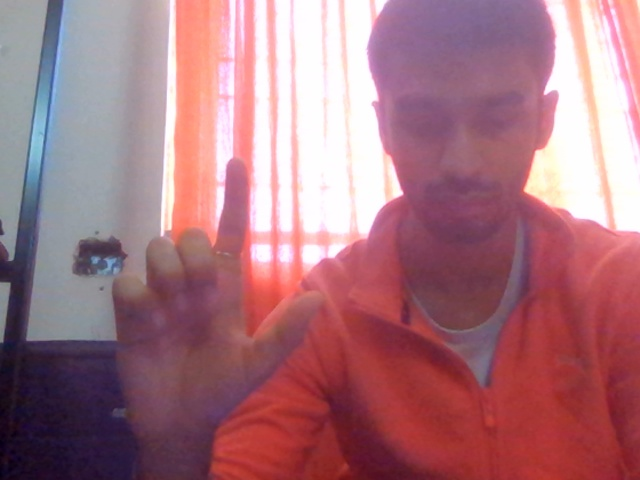L: (89, 146, 347, 460)
